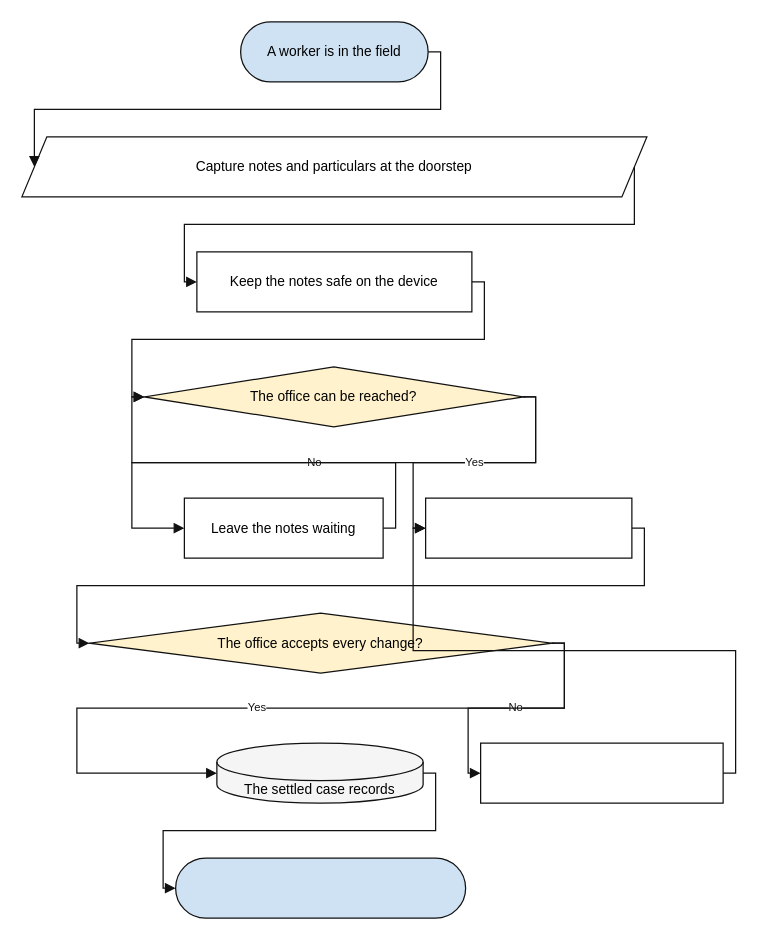
This 768x940 diagram has some shape labels left out. Each missing label, with the centre of its shape:
Settle the differences by hand: (601,772)
Submit the waiting notes: (528,527)
The field notes are part of the record: (320,887)
